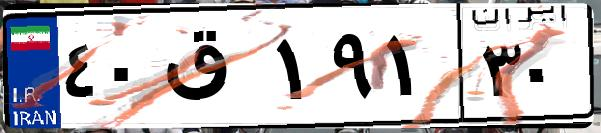0: (525, 38, 570, 115), (110, 28, 158, 98)
1: (270, 28, 330, 110), (385, 28, 445, 110)
3: (475, 38, 525, 113)
4: (57, 26, 110, 100)
9: (330, 28, 385, 110)
ق: (158, 20, 270, 120)
